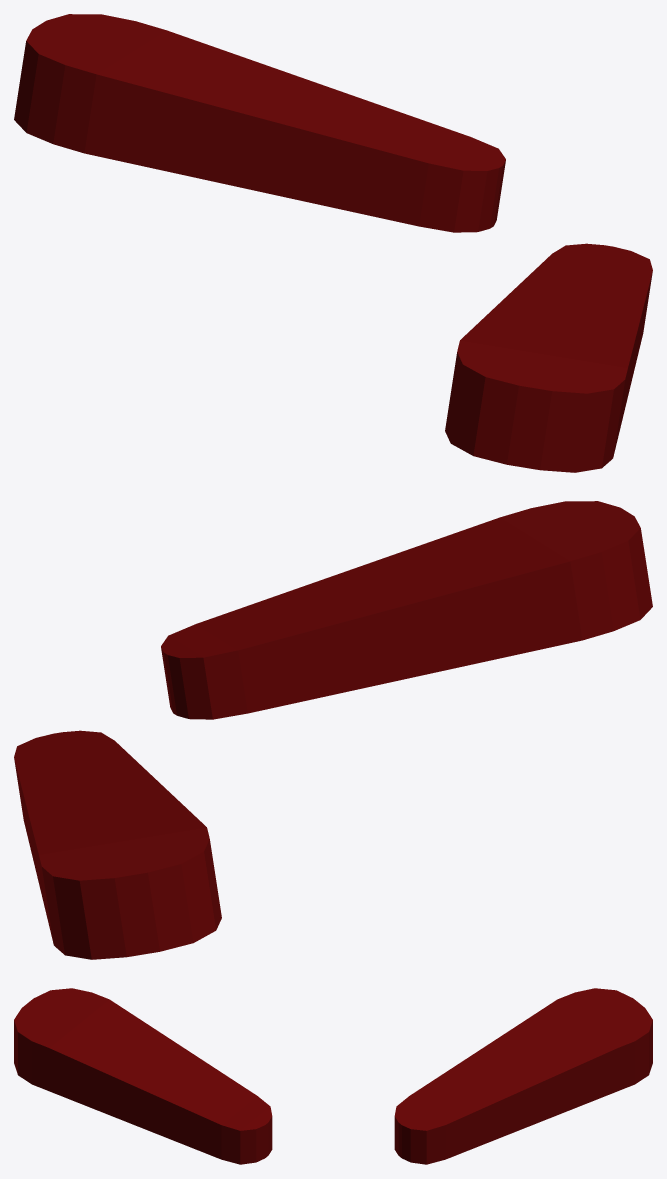
The model's file is pinball machine flippers.fbx.
The picture shows the model from 3 angles, top to bottom: view 1: azimuth 30°, elevation 25°; view 2: azimuth 150°, elevation 25°; view 3: azimuth 270°, elevation 25°; orthographic projection. The views are drawn at different scales.
Visible parts, largest first — view 1: flipper right, flipper left; view 2: flipper left, flipper right; view 3: flipper left, flipper right.
Boxes of the visible parts, x1,y1,x2,y2 form: flipper right: [14, 14, 505, 232]; flipper left: [445, 243, 652, 472]; flipper left: [161, 501, 652, 719]; flipper right: [14, 730, 221, 959]; flipper left: [14, 988, 272, 1164]; flipper right: [394, 988, 652, 1164].
Size of the model in its own units: 22.75 by 8.63 by 60.87.
